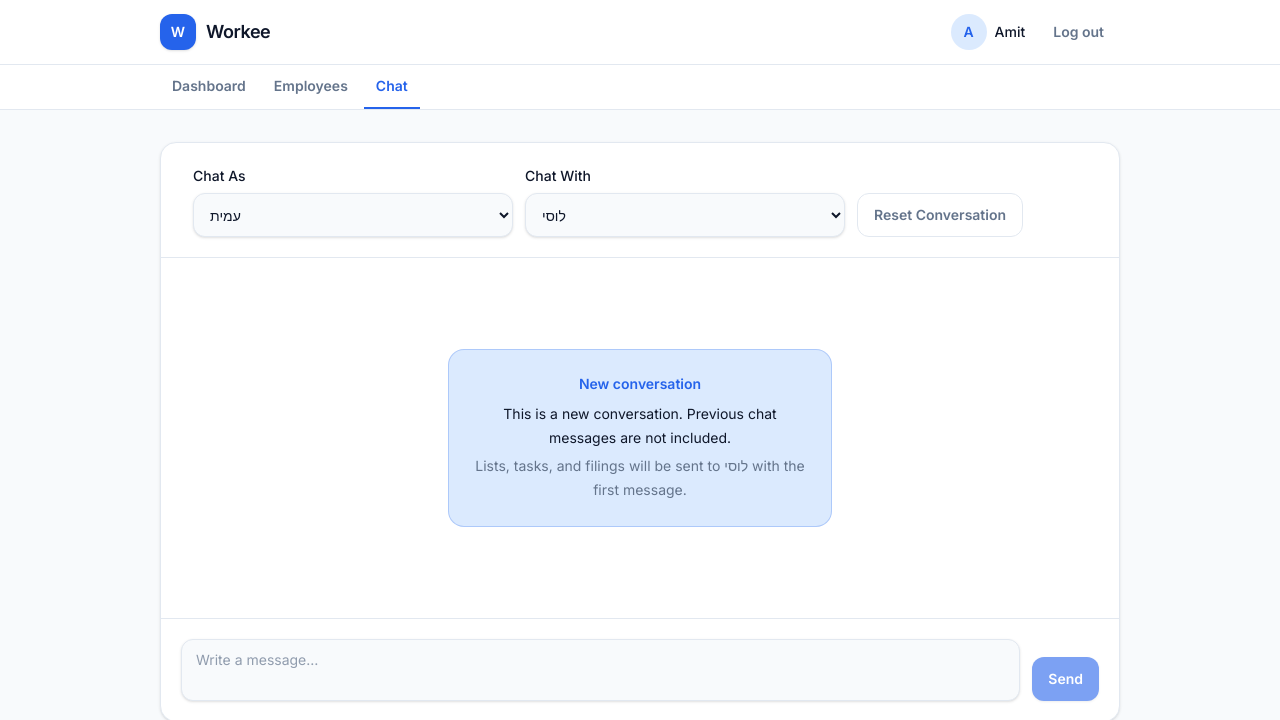
Chat page › shows only the JSON response in the dialog and an action when present
In the text box labelled "message": x=601, y=670 [181, 639, 1020, 701], type "add milk"
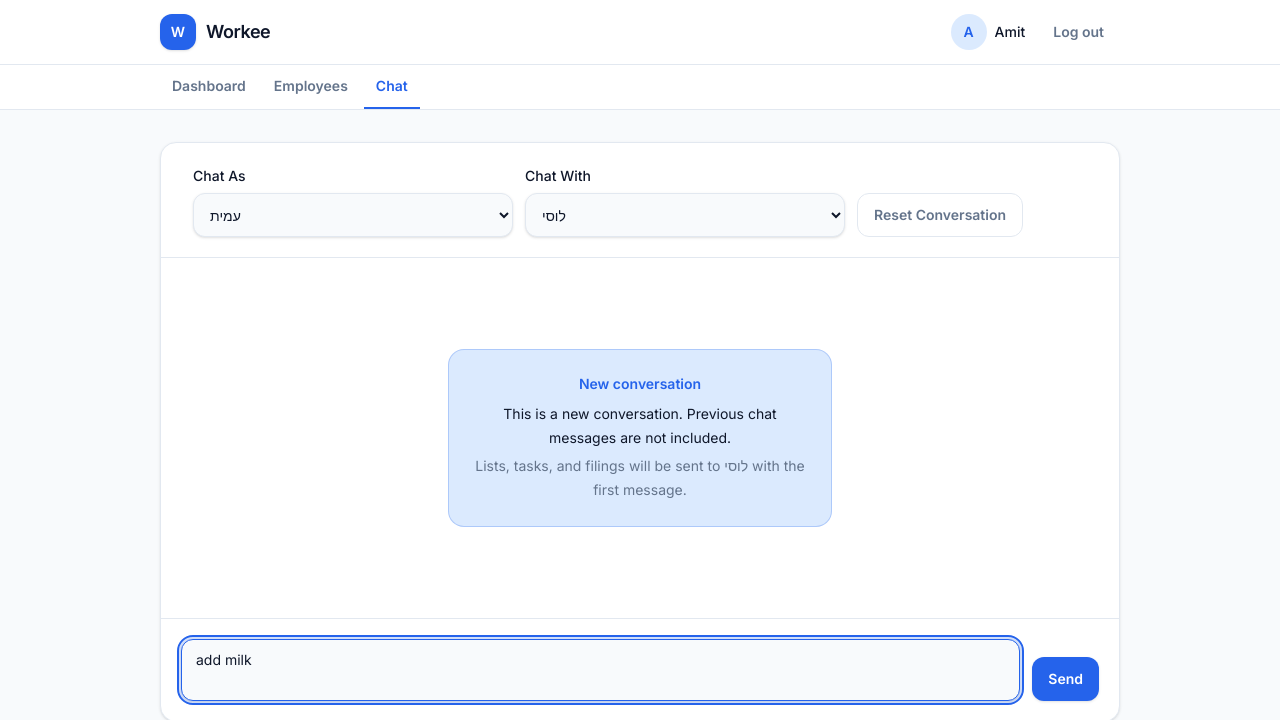
Click the button "Send": x=1066, y=679 [1032, 657, 1099, 701]
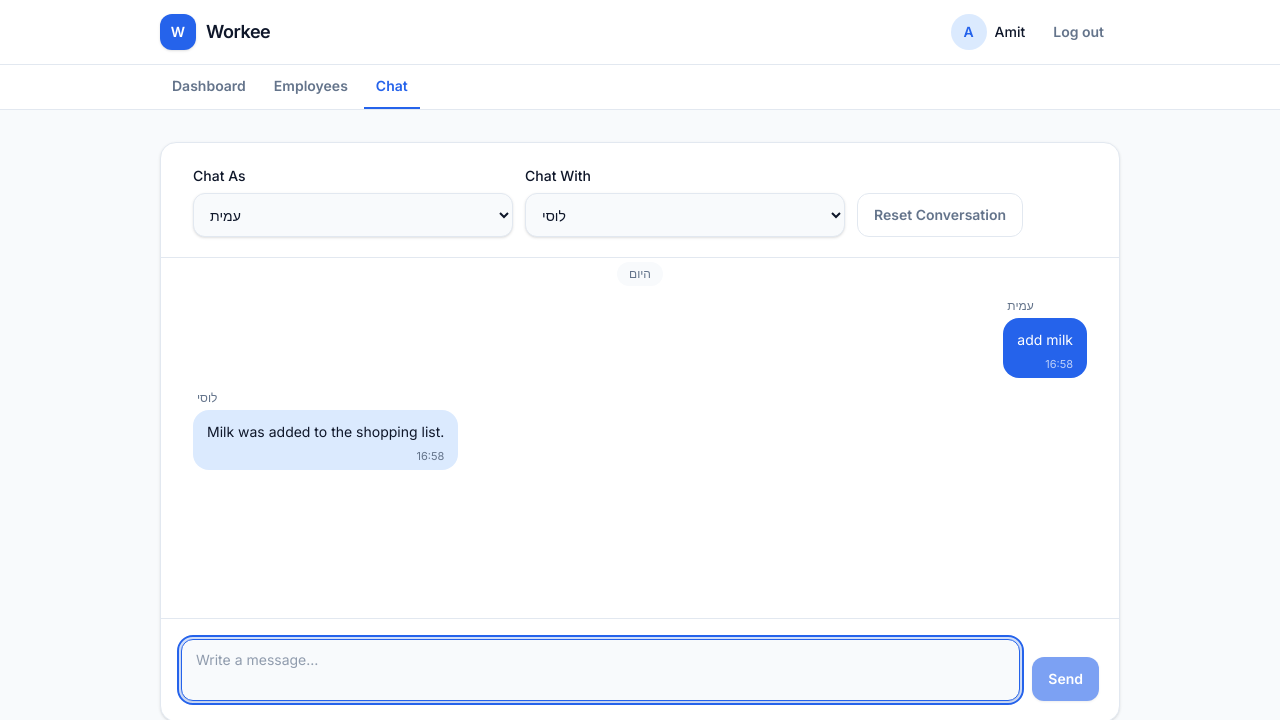
Expected: the text "Milk was added to the shopping list." is shown, [207, 420, 444, 444]
